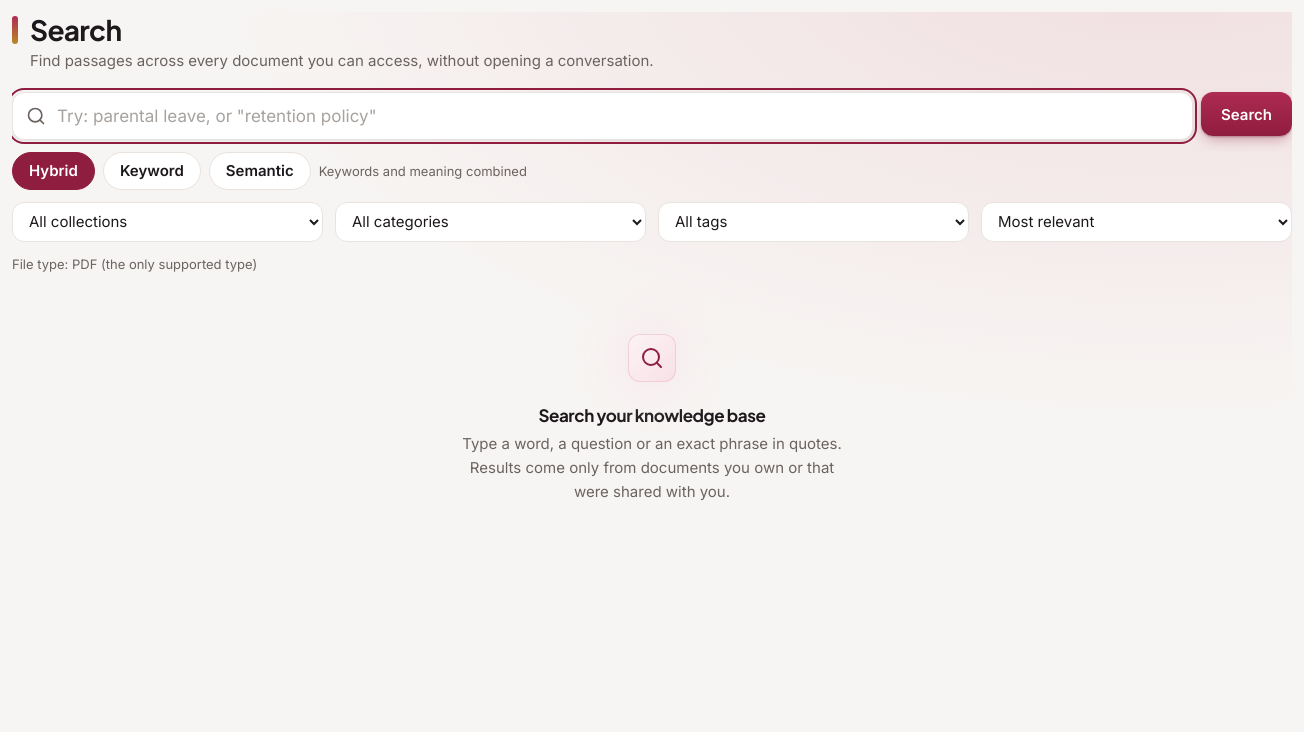
Search page › searches on submit (Enter) in hybrid mode and shows highlighted snippets, page link and metadata
In the search field named "Search query": {"x": 603, "y": 116} 12,92 -> 1193,140, type "retention"
Then press Enter
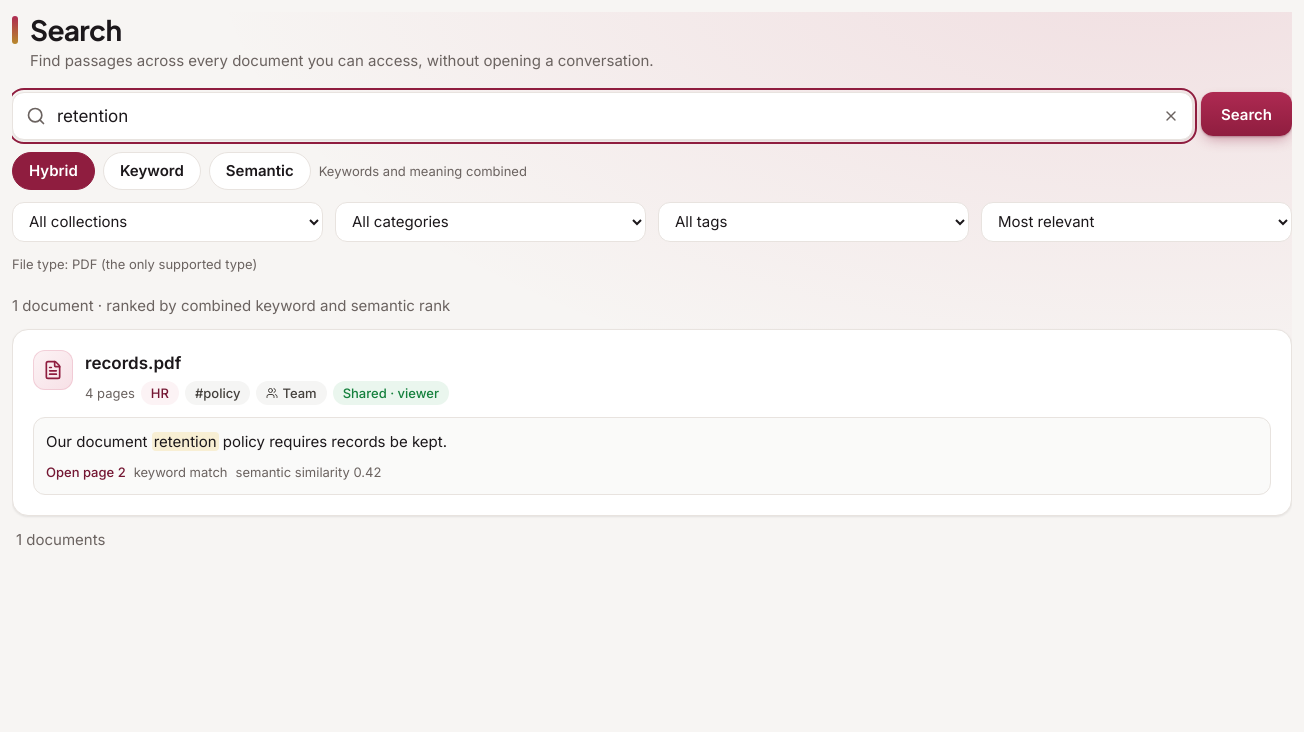
expect the text "retention" is shown: met, box 152,432 -> 219,451
expect the text "#policy" is shown: met, box 185,381 -> 250,405
expect the text "Team" is shown: met, box 256,381 -> 327,405
